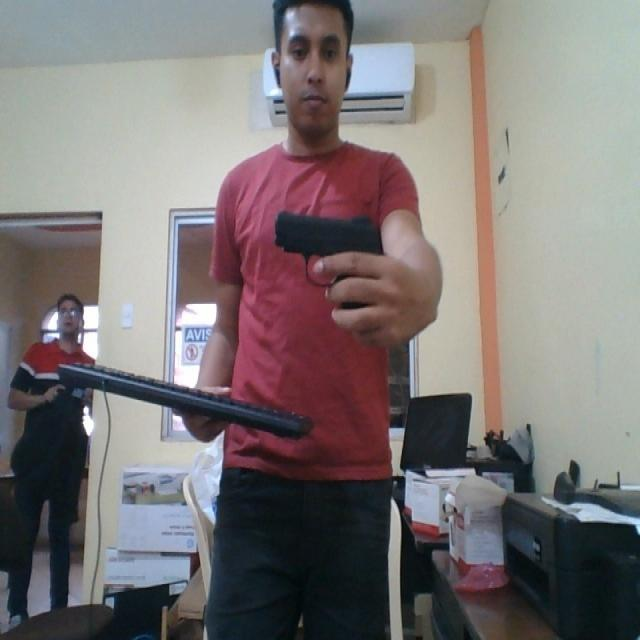weapon: (272, 210, 384, 318)
